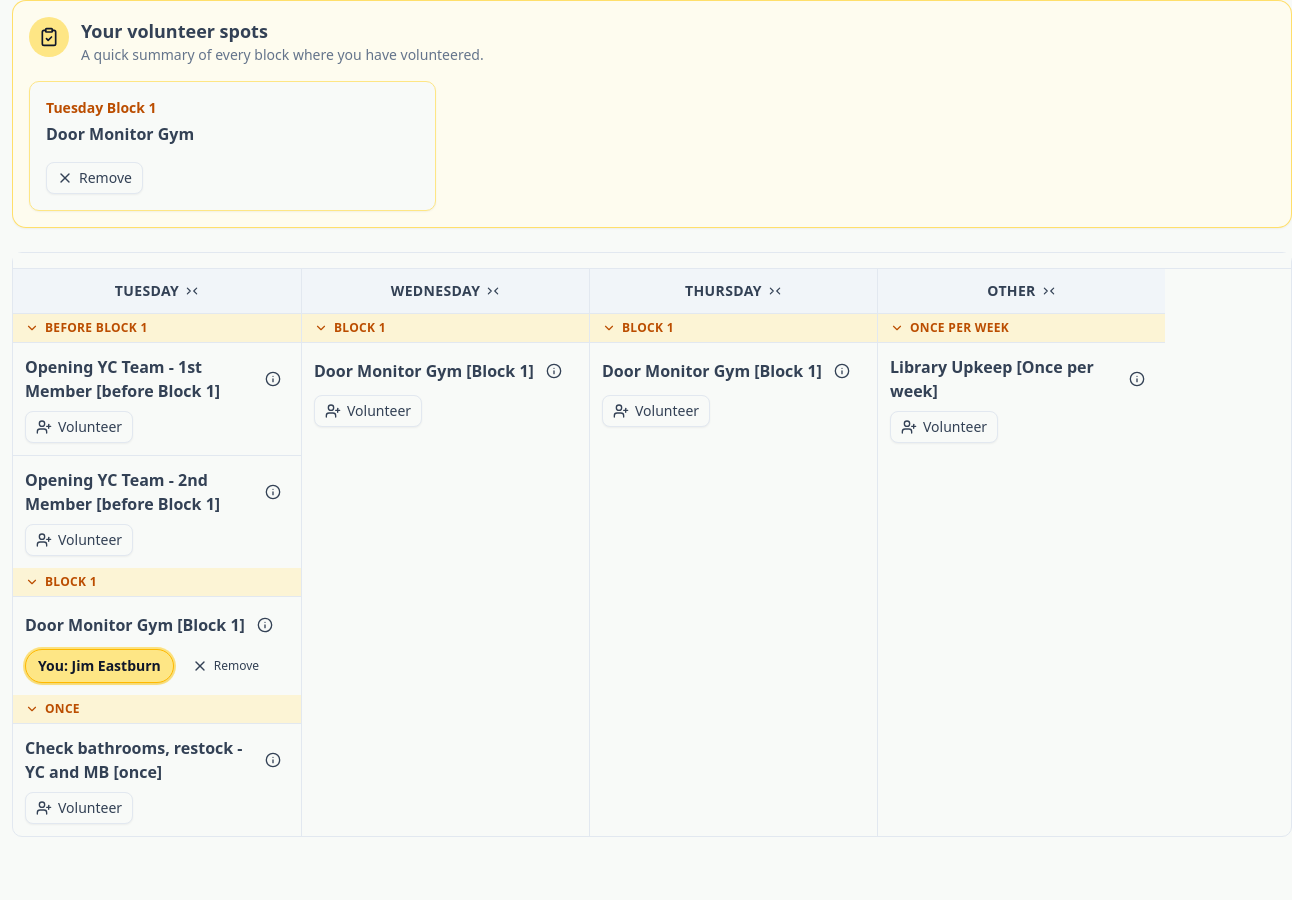
Scenario: VolunteerBoardV2Client › collapses and re-expands a block section when its sub-header is clicked
This screenshot has width=1292, height=900.
Check: the button "Opening YC Team - 1st Member [before Block 1]" is shown, box [25,355,253,403]
What coordinates should you click on to do the following:
click the button with aria-label "Collapse before Block 1 roles"
I would click on:
 (96, 328)
Its box is [13,314,301,343].
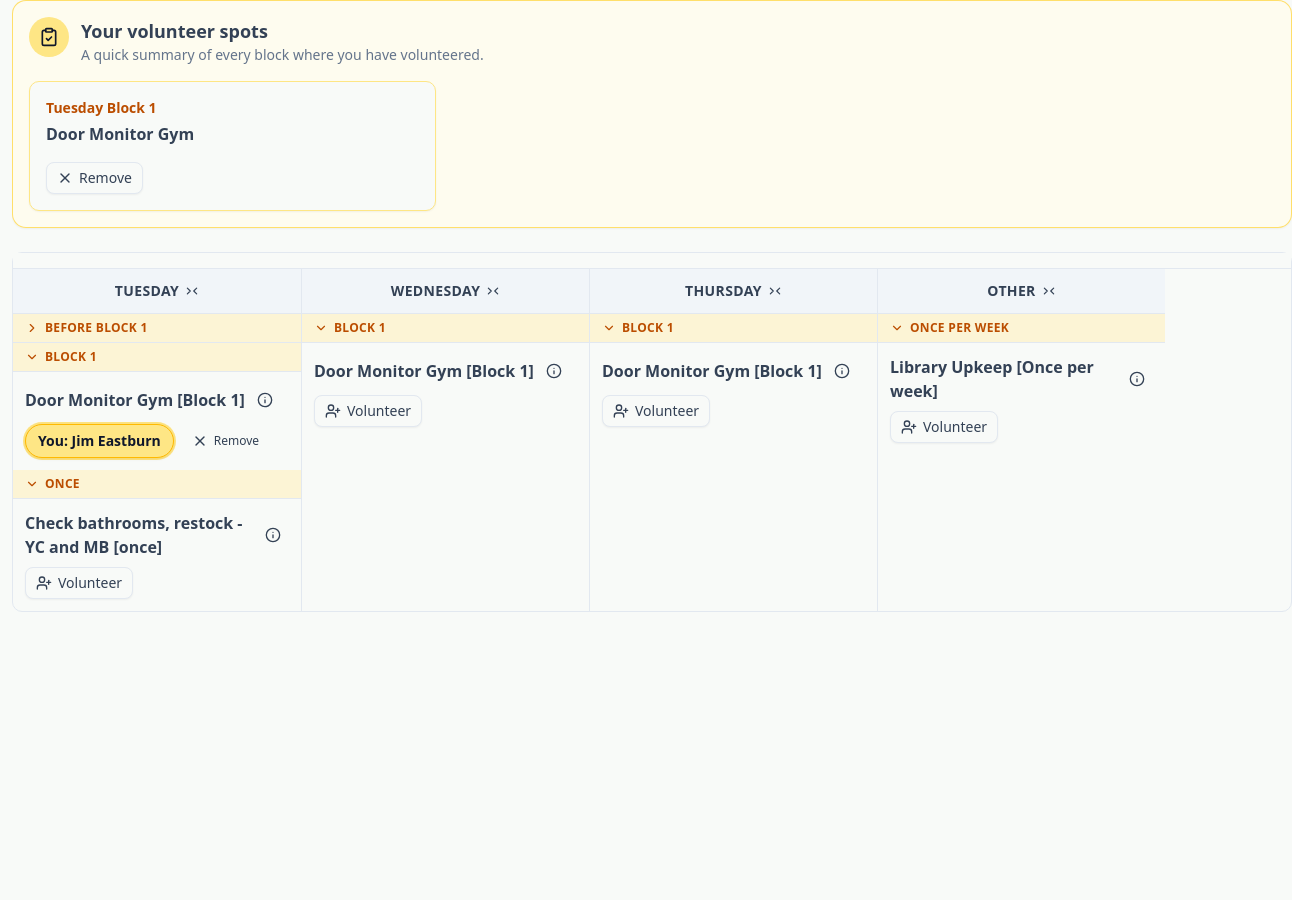
Check: the 3rd button "Door Monitor Gym [Block 1]" is shown, box [25,388,245,412]
Check: the button "Opening YC Team - 1st Member [before Block 1]" is gone
What coordinates should you click on to do the following:
click the button with aria-label "Expand before Block 1 roles"
I would click on:
 (96, 328)
Its box is [13,314,301,343].
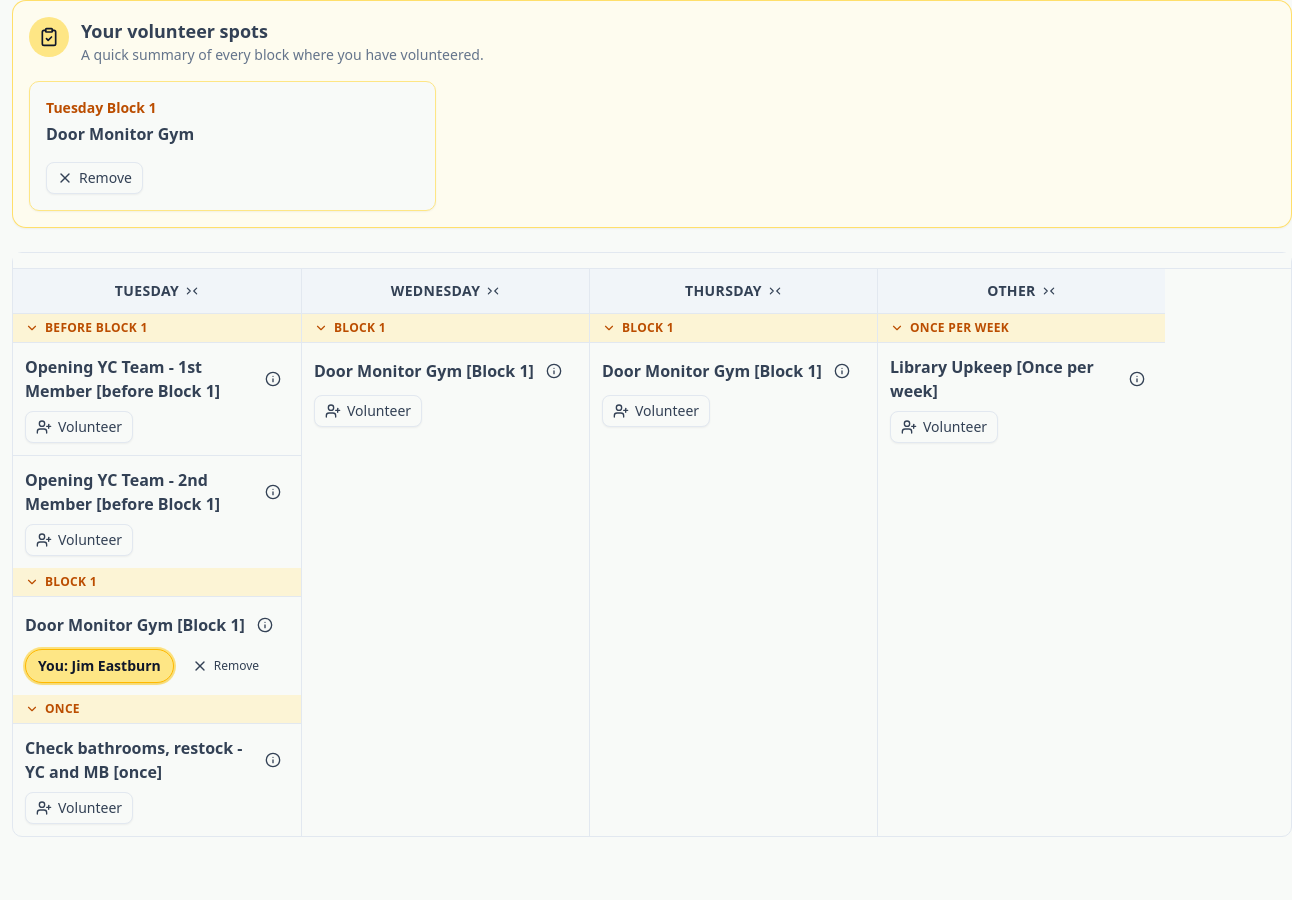
Check: the button "Opening YC Team - 1st Member [before Block 1]" is shown, box [25,355,253,403]
